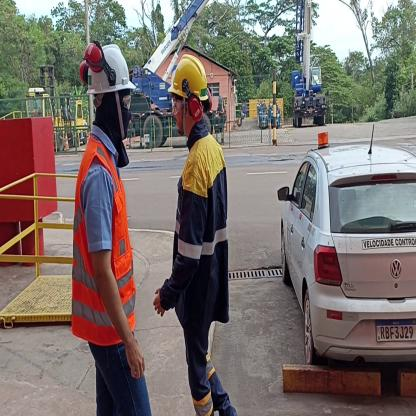Balaclava: (91, 92, 134, 144)
Capacete: (80, 42, 139, 92), (168, 53, 215, 95)
colete: (70, 140, 140, 347)
